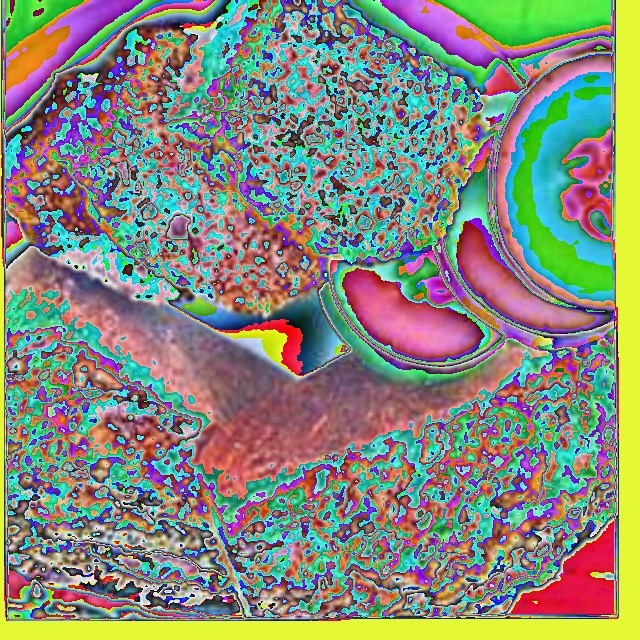background: (5, 0, 617, 618)
